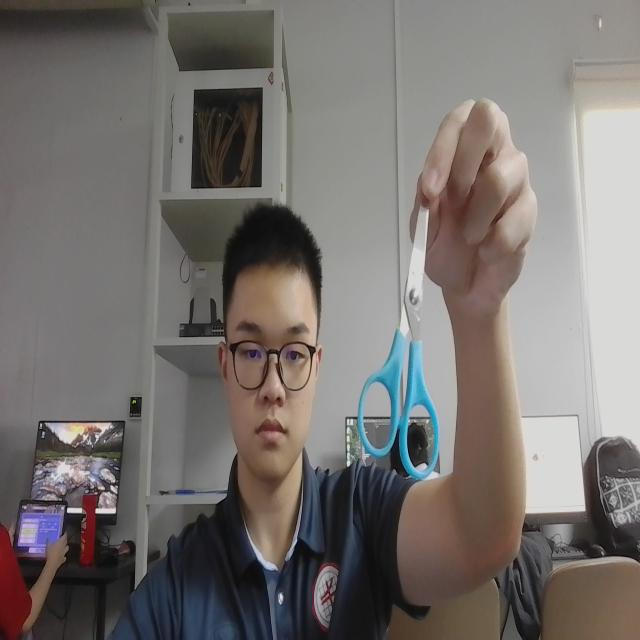scissors: (351, 185, 444, 488)
